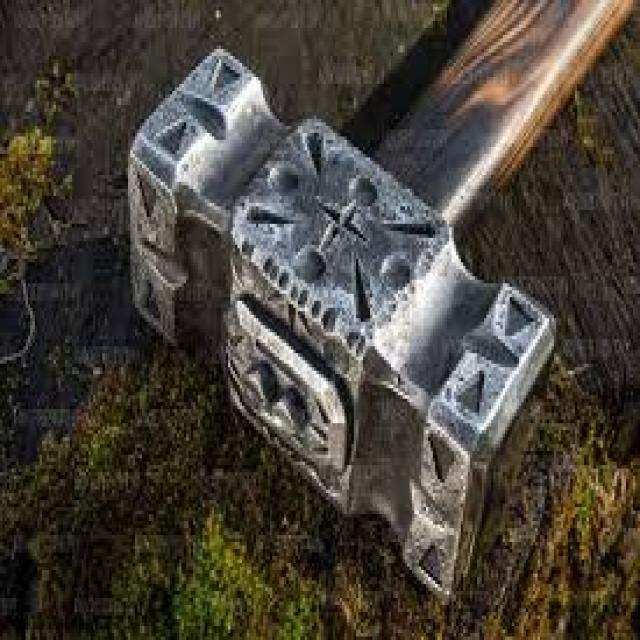hammer: (123, 0, 640, 612)
